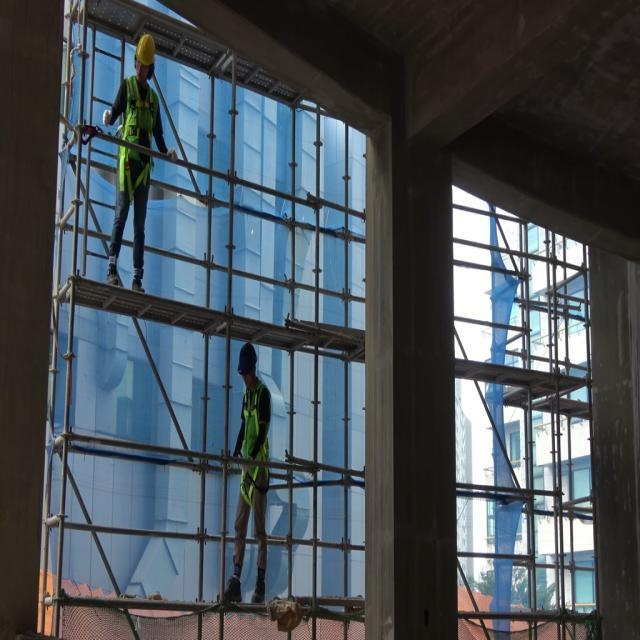Arnes_seguridad: (119, 75, 159, 197), (242, 383, 270, 504)
